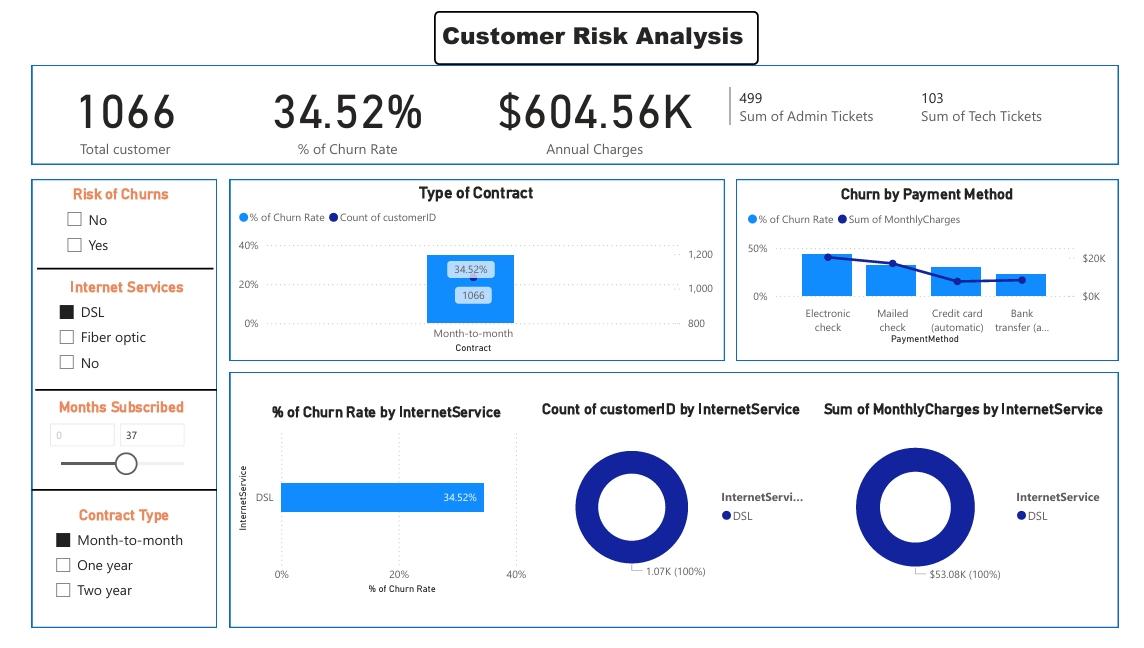

What the dashboard file says about the page in this screenshot:
{"tool":"powerbi","page":{"name":"Customer risk analysis","canvas":[1280,720],"ordinal":2},"visuals":[{"type":"shape","box":[17,62.4,1245.4,113.4],"z":0},{"type":"shape","box":[17,192.8,211.7,514],"z":1000},{"type":"shape","box":[243.8,192.8,566.9,207.9],"z":2000},{"type":"shape","box":[823.9,192.8,438.4,207.9],"z":3000},{"type":"shape","box":[243.8,413.9,1018.6,292.9],"z":4000},{"type":"slicer","title":"Risk of Churns","fields":{"Values":["01 Churn-Dataset.Churn"]},"box":[45.4,200.3,147.4,86.9],"z":5000},{"type":"slicer","title":"Internet Services","fields":{"Values":["01 Churn-Dataset.InternetService"]},"box":[35.9,306.1,181.4,120.9],"z":6000},{"type":"slicer","title":"Months Subscribed","fields":{"Values":["01 Churn-Dataset.tenure"]},"box":[24.6,444.1,189,94.5],"z":7000},{"type":"slicer","title":"Contract Type","fields":{"Values":["01 Churn-Dataset.Contract"]},"box":[32.1,566.9,181.4,124.7],"z":8000},{"type":"card","fields":{"Values":["CountNonNull(01 Churn-Dataset.customerID)"]},"box":[22.7,66.1,202.2,105.8],"z":9000},{"type":"card","fields":{"Values":["01 Churn-Dataset.% of Churn Rate"]},"box":[243.8,66.1,270.2,105.8],"z":10000},{"type":"card","fields":{"Values":["Sum(01 Churn-Dataset.TotalCharges)"]},"box":[527.2,66.1,270.2,105.8],"z":11000},{"type":"multiRowCard","fields":{"Values":["Sum(01 Churn-Dataset.numAdminTickets)","Sum(01 Churn-Dataset.numTechTickets)"]},"box":[810.7,83.2,438.4,62.4],"z":12000},{"type":"barChart","fields":{"Category":["01 Churn-Dataset.InternetService"],"Y":["01 Churn-Dataset.% of Churn Rate"]},"box":[249.5,449.8,347.7,223],"z":13000},{"type":"donutChart","fields":{"Y":["CountNonNull(01 Churn-Dataset.customerID)"],"Category":["01 Churn-Dataset.InternetService"]},"box":[597.2,446,311.8,226.8],"z":14000},{"type":"donutChart","fields":{"Category":["01 Churn-Dataset.InternetService"],"Y":["Sum(01 Churn-Dataset.MonthlyCharges)"]},"box":[909,446,351.5,226.8],"z":15000},{"type":"lineStackedColumnComboChart","title":"Type of Contract","fields":{"Category":["01 Churn-Dataset.Contract"],"Y":["01 Churn-Dataset.% of Churn Rate"],"Y2":["CountNonNull(01 Churn-Dataset.customerID)"]},"box":[249.5,196.5,553.7,200.3],"z":16000},{"type":"lineStackedColumnComboChart","title":"Churn by Payment Method","fields":{"Category":["01 Churn-Dataset.PaymentMethod"],"Y2":["Sum(01 Churn-Dataset.MonthlyCharges)"],"Y":["01 Churn-Dataset.% of Churn Rate"]},"box":[831.5,200.3,421.4,187.1],"z":17000},{"type":"shape","box":[22.7,285.4,202.2,20.8],"z":18000},{"type":"shape","box":[20.8,427.1,207.9,15.1],"z":19000},{"type":"shape","box":[17,538.6,211.7,20.8],"z":20000},{"type":"textbox","box":[478.1,0,372.3,62.4],"z":21000}]}

Visuals, with their boxes in screenshot pixels (x1, y1, x2, y2), scaled from the page's 1280x720 canvas onto the 1144x648 screenshot:
shape: box(15, 56, 1128, 158)
shape: box(15, 174, 204, 636)
shape: box(218, 174, 725, 361)
shape: box(736, 174, 1128, 361)
shape: box(218, 373, 1128, 636)
"Risk of Churns" slicer: box(41, 180, 172, 258)
"Internet Services" slicer: box(32, 275, 194, 384)
"Months Subscribed" slicer: box(22, 400, 191, 485)
"Contract Type" slicer: box(29, 510, 191, 622)
card - CountNonNull(01 Churn-Dataset.customerID): box(20, 59, 201, 155)
card - 01 Churn-Dataset.% of Churn Rate: box(218, 59, 459, 155)
card - Sum(01 Churn-Dataset.TotalCharges): box(471, 59, 713, 155)
multiRowCard - Sum(01 Churn-Dataset.numAdminTickets) x Sum(01 Churn-Dataset.numTechTickets): box(725, 75, 1116, 131)
barChart - 01 Churn-Dataset.InternetService x 01 Churn-Dataset.% of Churn Rate: box(223, 405, 534, 606)
donutChart - CountNonNull(01 Churn-Dataset.customerID) x 01 Churn-Dataset.InternetService: box(534, 401, 812, 606)
donutChart - 01 Churn-Dataset.InternetService x Sum(01 Churn-Dataset.MonthlyCharges): box(812, 401, 1127, 606)
"Type of Contract" lineStackedColumnComboChart: box(223, 177, 718, 357)
"Churn by Payment Method" lineStackedColumnComboChart: box(743, 180, 1120, 349)
shape: box(20, 257, 201, 276)
shape: box(19, 384, 204, 398)
shape: box(15, 485, 204, 503)
textbox: box(427, 0, 760, 56)
